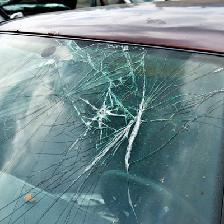glass_shatter: (26, 23, 185, 173)
